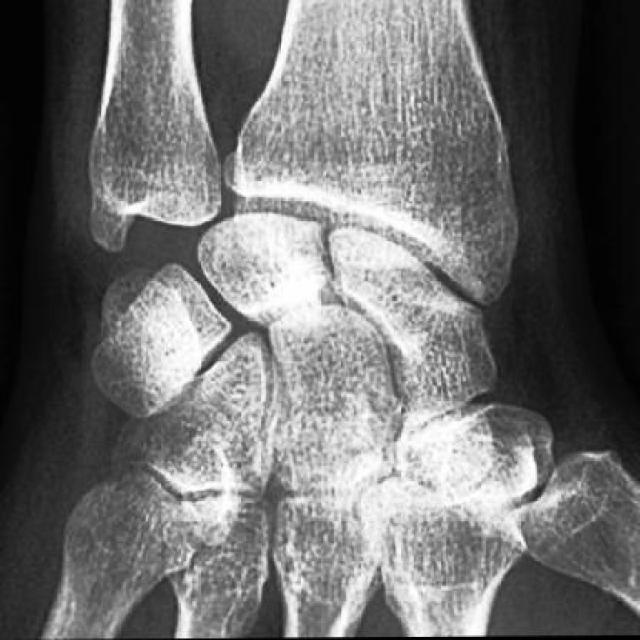Fracture: (239, 239, 328, 326)
